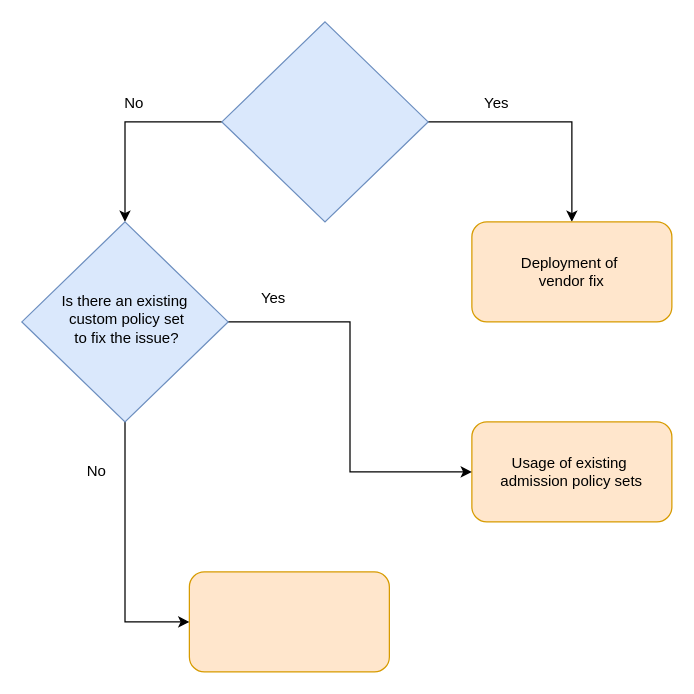
Some shapes in this 694 by 694 pixel diagram are drawn without their labels. Here are the shapes that lost their labels. From the top down, the centre of each, then its label:
At point (324, 121): "Is there a vendor fix for the issue?".
At point (288, 621): "Definition of custom policies".
